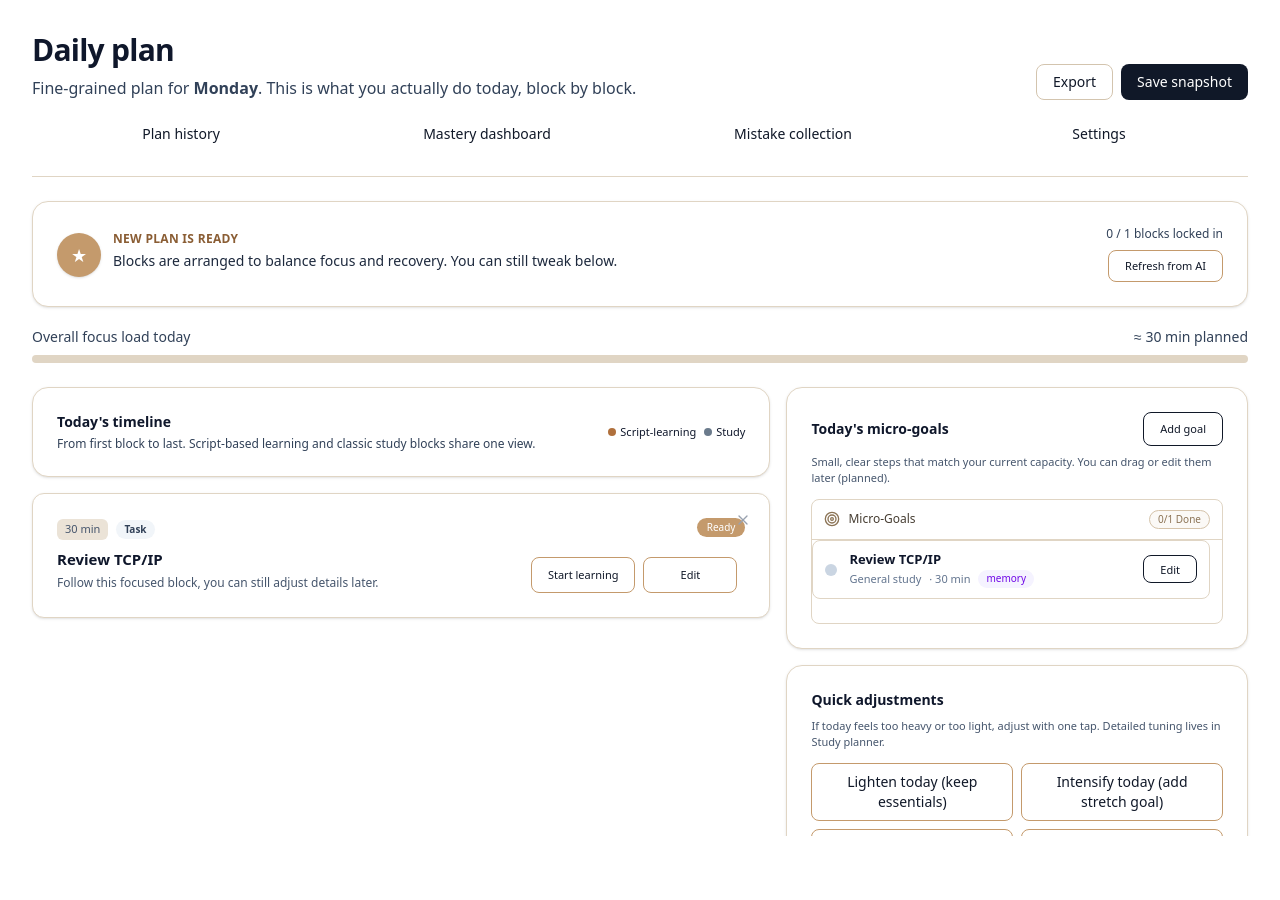
DailyPlanPage › opens add-task modal and closes with cancel
This screenshot has width=1280, height=900.
Click the button "Add goal" at coordinates (1183, 429), box [1143,412,1223,446]
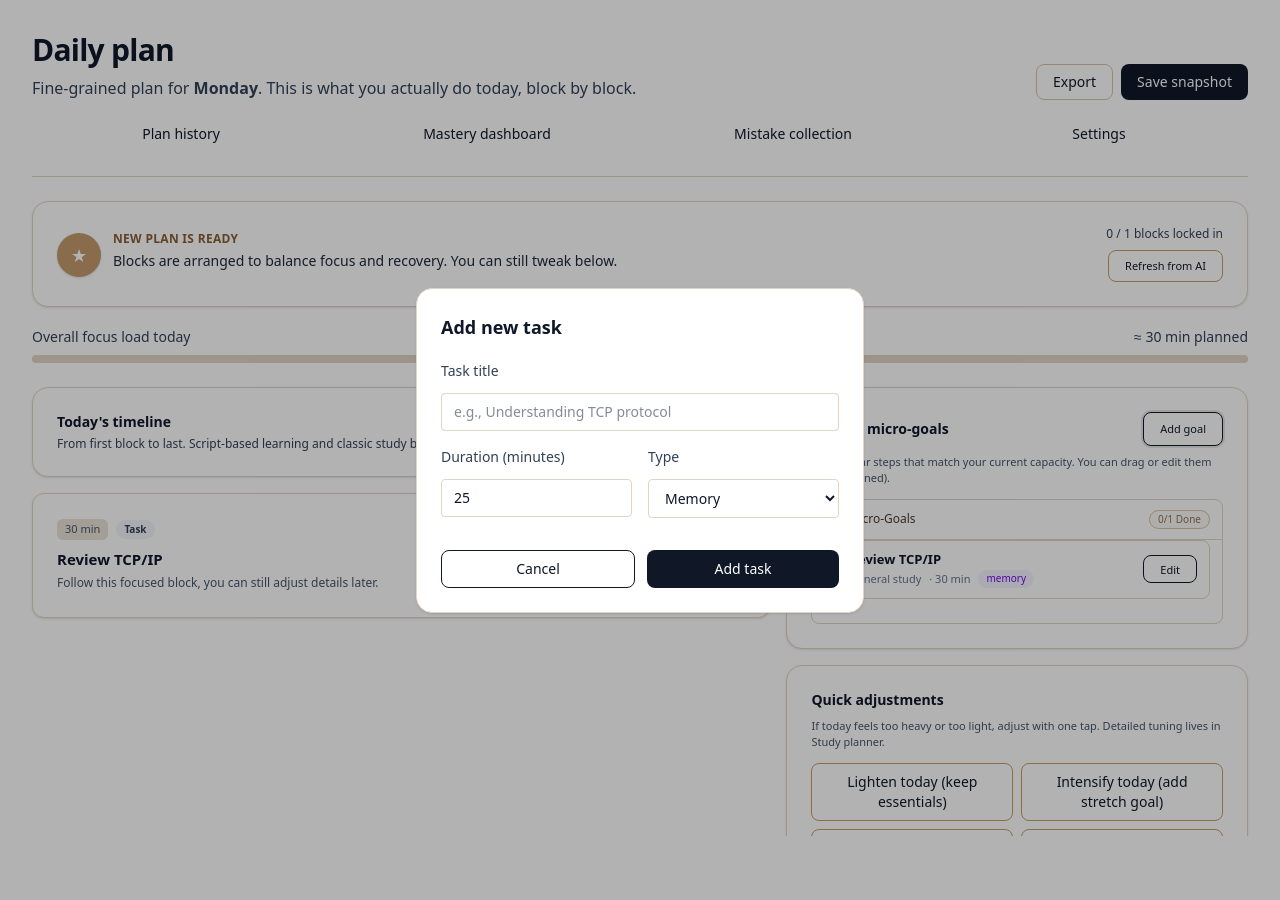
Result: the heading "Add new task" is shown at [441,314,562,338]
Click the button "Cancel" at coordinates (538, 568), box [441,550,635,588]
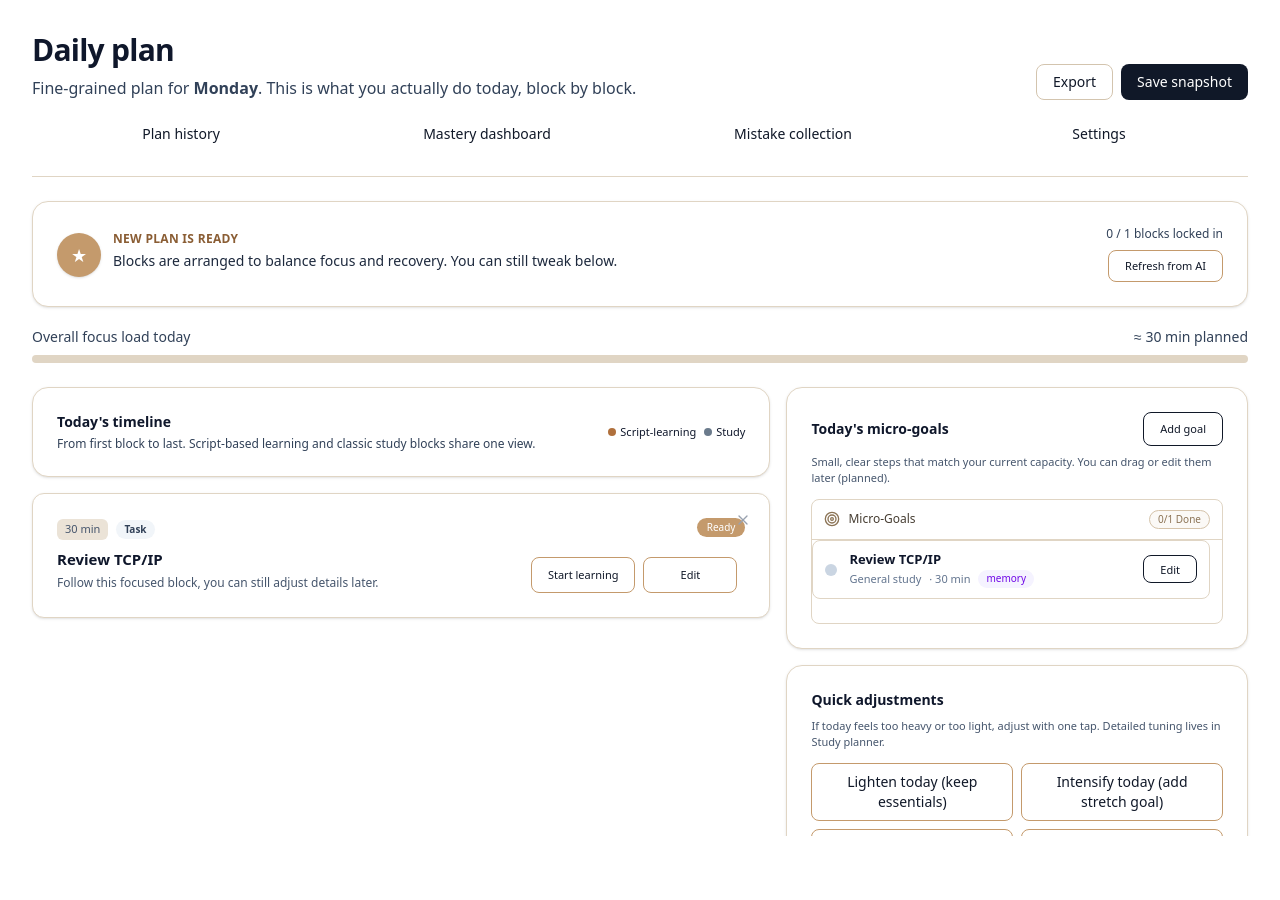
Result: the heading "Add new task" is gone
